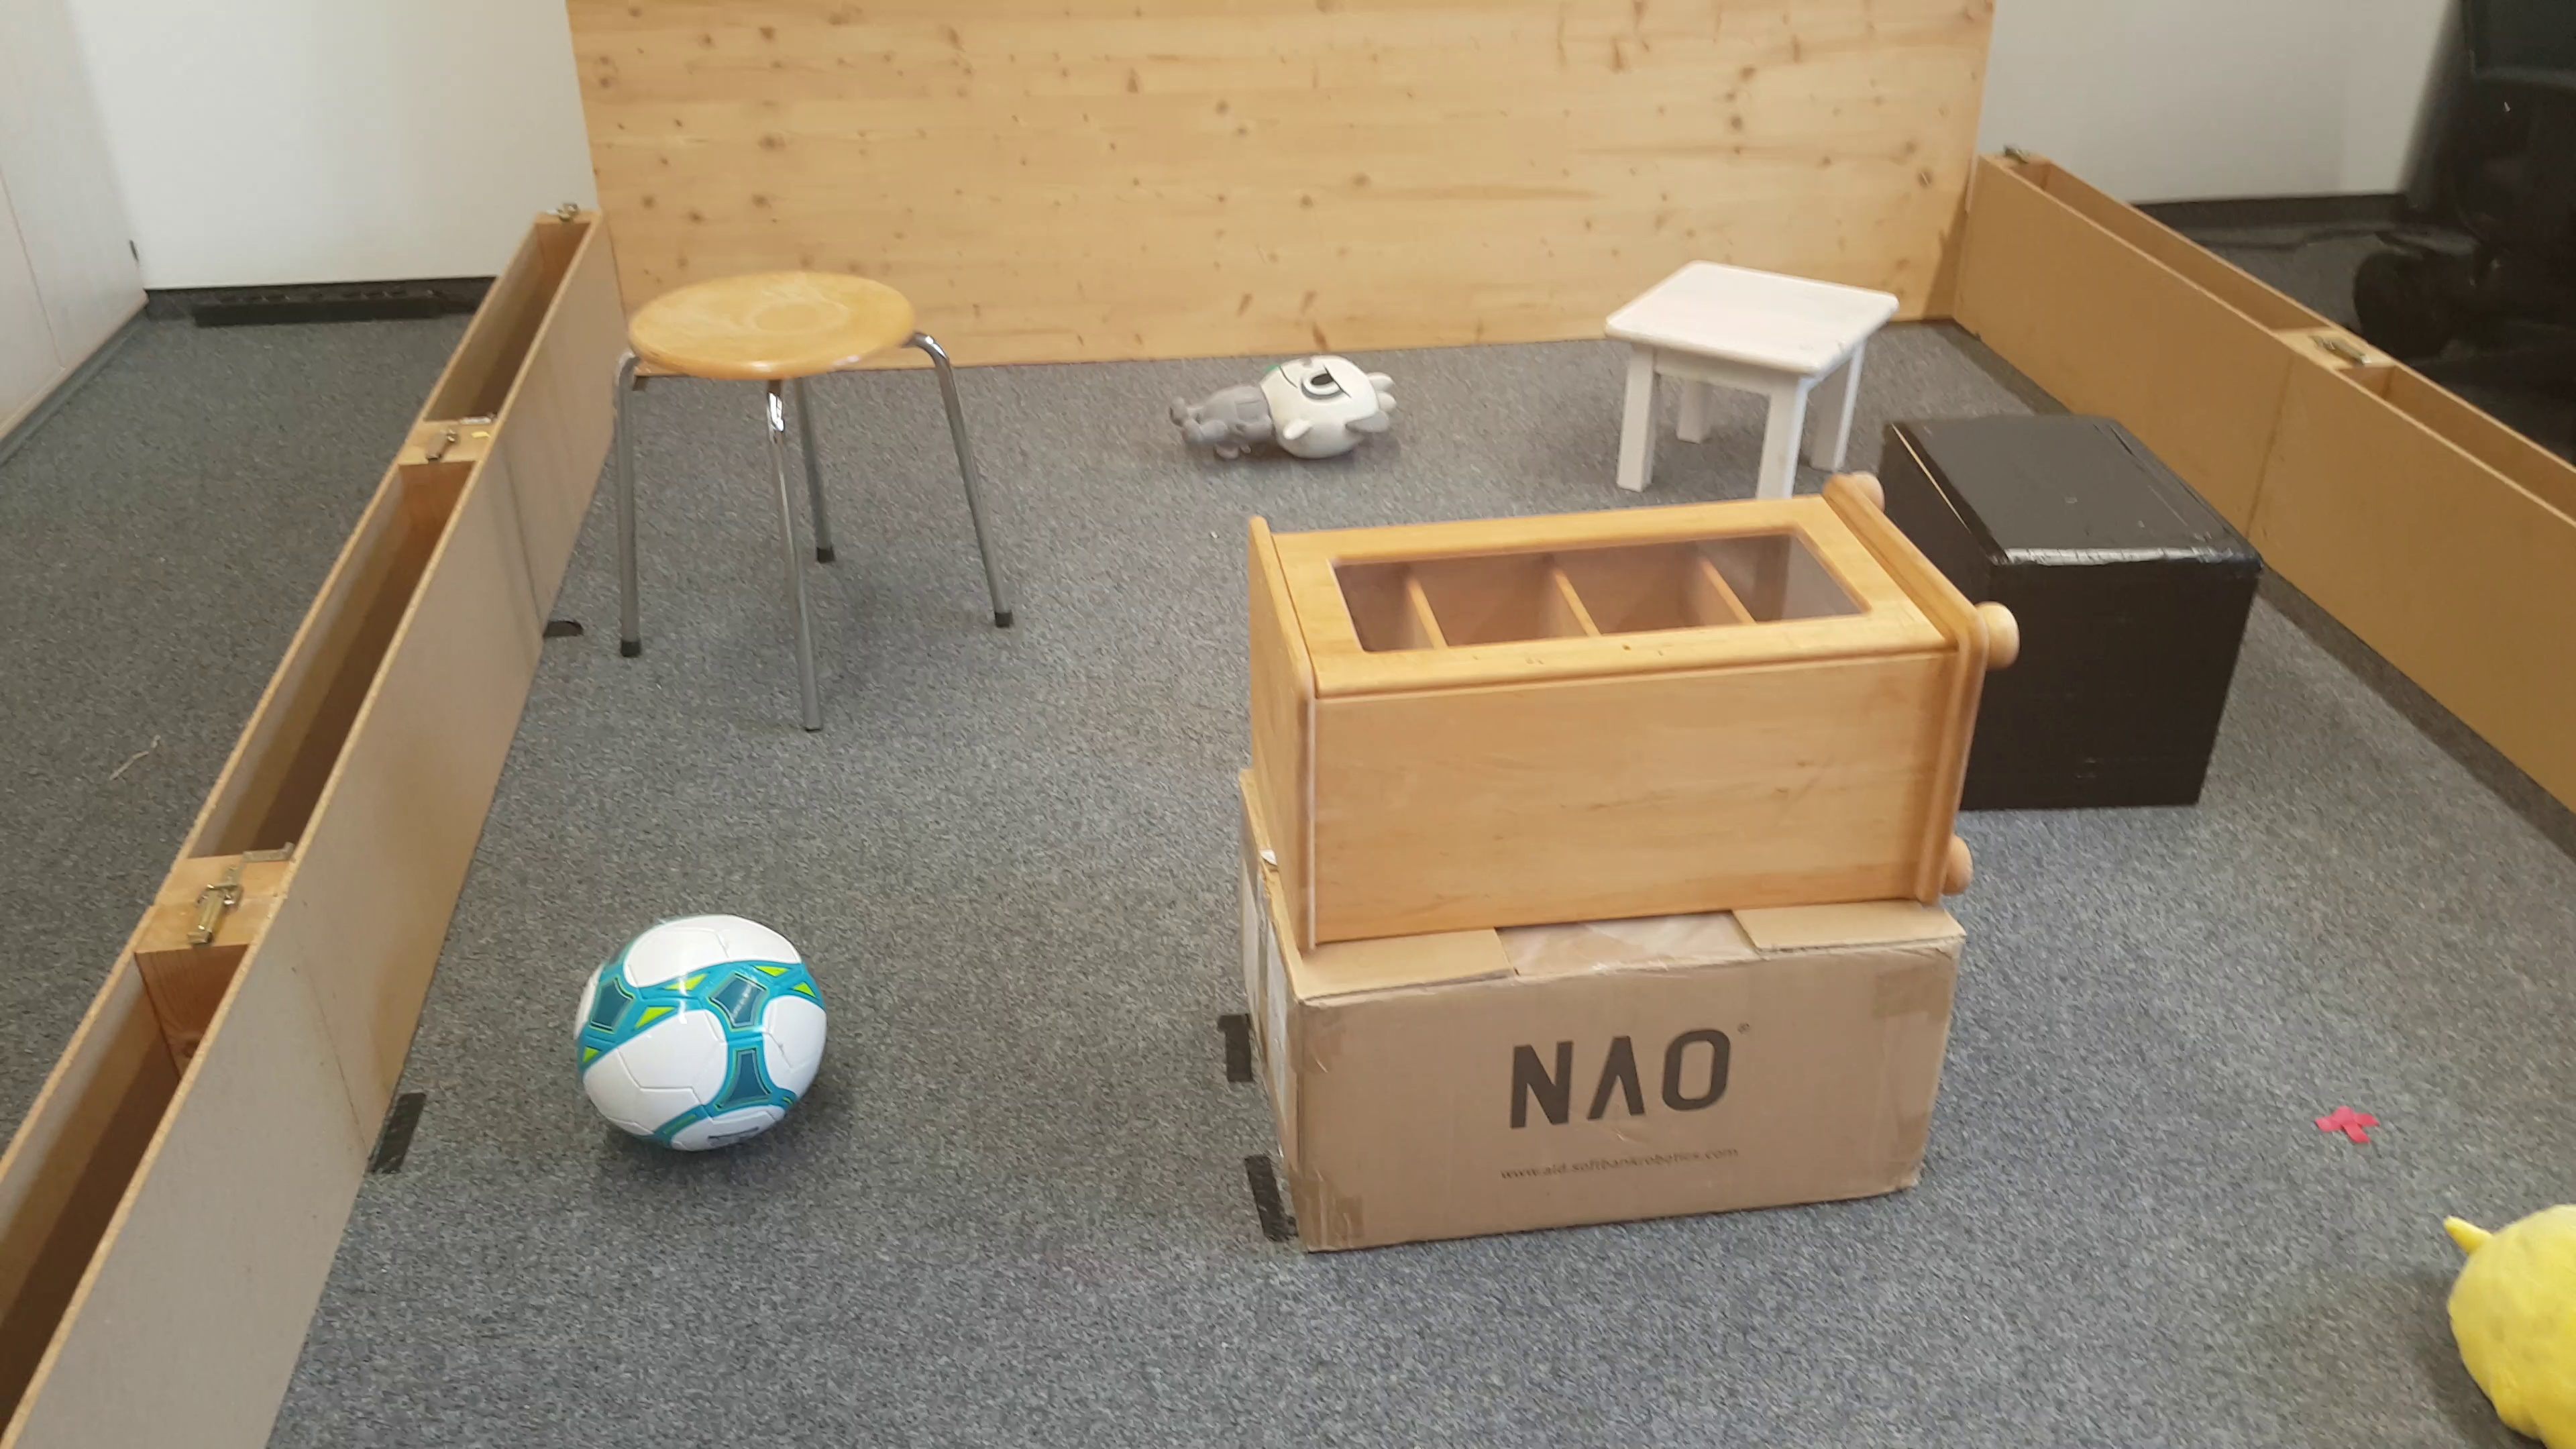grasp: (2434, 1198, 2576, 1422), (1169, 350, 1401, 474)
kick: (573, 908, 828, 1166)
push: (2020, 414, 2263, 816)
